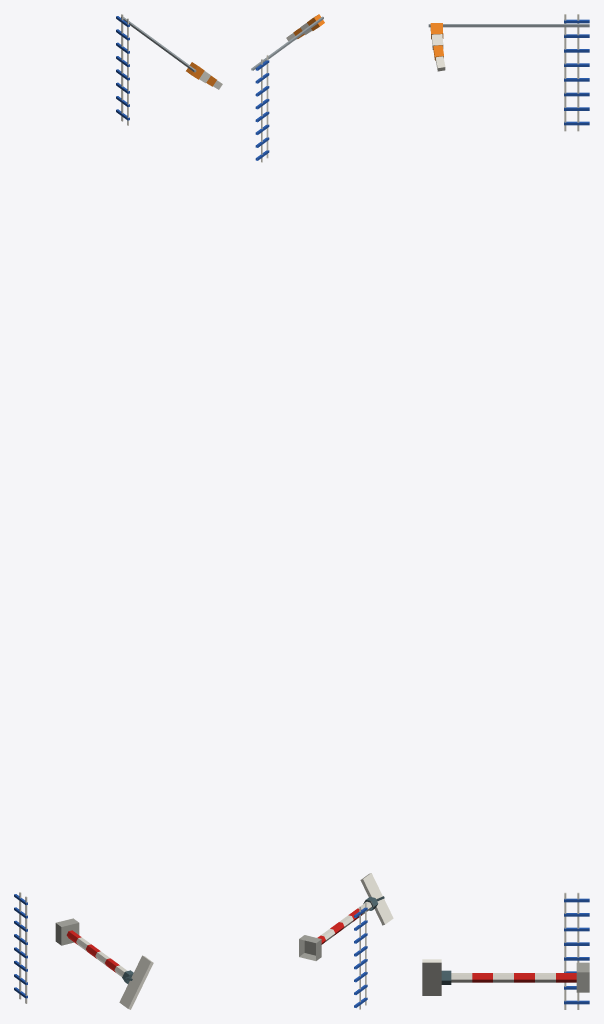
File: frame_2.glb
3 views of the same model, side by side, from view 1: azimuth 30°, elevation 25°; view 2: azimuth 150°, elevation 25°; view 3: azimuth 270°, elevation 25° (orthographic). The views are drawn at different scales.
Visible parts, largest first — view 1: t0_0_g52.002, t1_8_g73.002; view 2: t0_0_g52.002, t1_8_g73.002; view 3: t0_0_g52.002, t1_8_g73.002.
Part boxes in pixels (<box>): t0_0_g52.002: <box>14,892,153,1009</box>; t1_8_g73.002: <box>116,14,222,125</box>; t0_0_g52.002: <box>299,873,393,1009</box>; t1_8_g73.002: <box>251,14,324,162</box>; t0_0_g52.002: <box>422,892,589,1009</box>; t1_8_g73.002: <box>428,14,589,131</box>.
Size of the model in its own units: 21.89 by 144 by 20.8.
